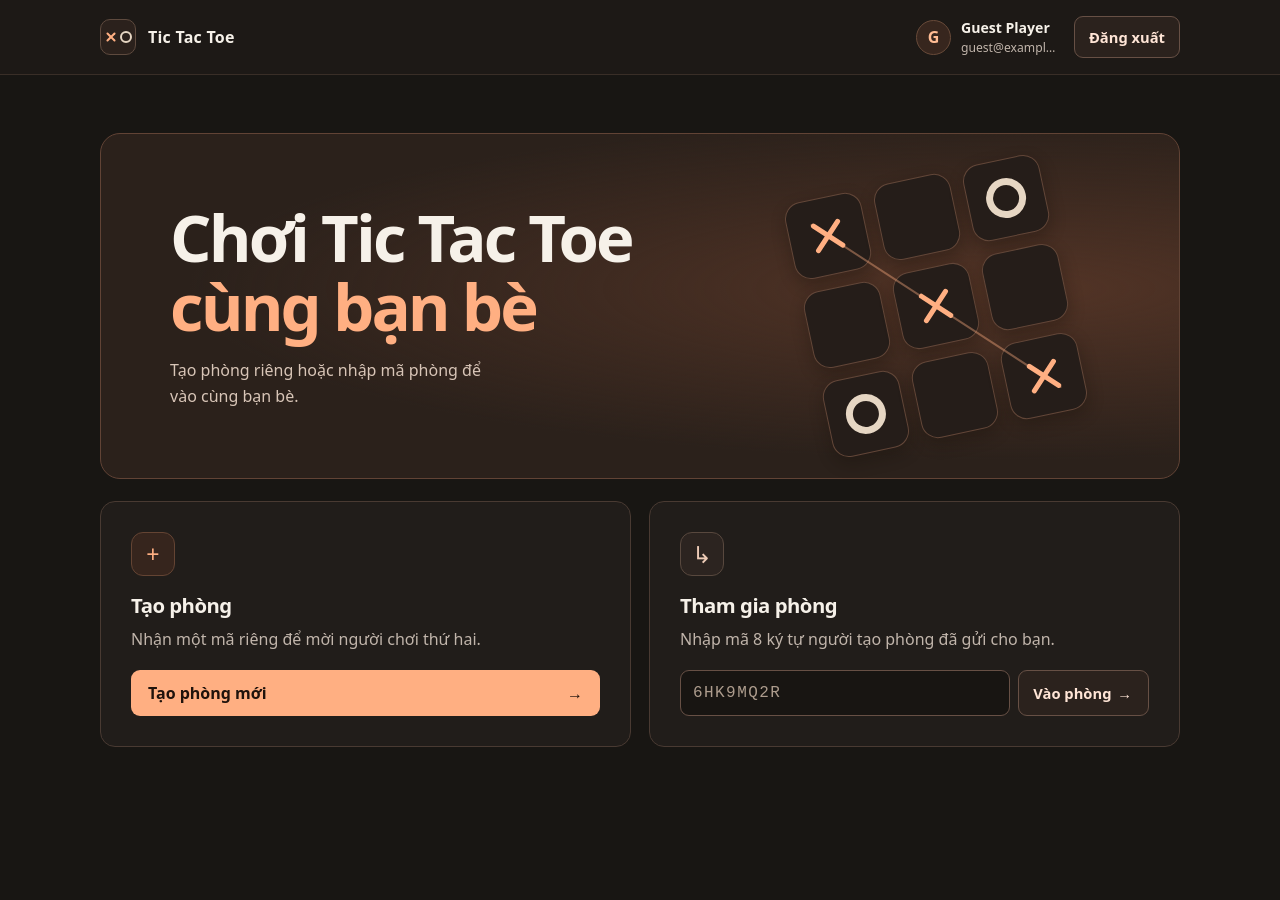
Tạo phòng chơi › giữ trang chủ và báo lỗi khi không thể tạo phòng
Click the button "Tạo phòng mới →" at (207, 693), box 131,670 -> 600,716
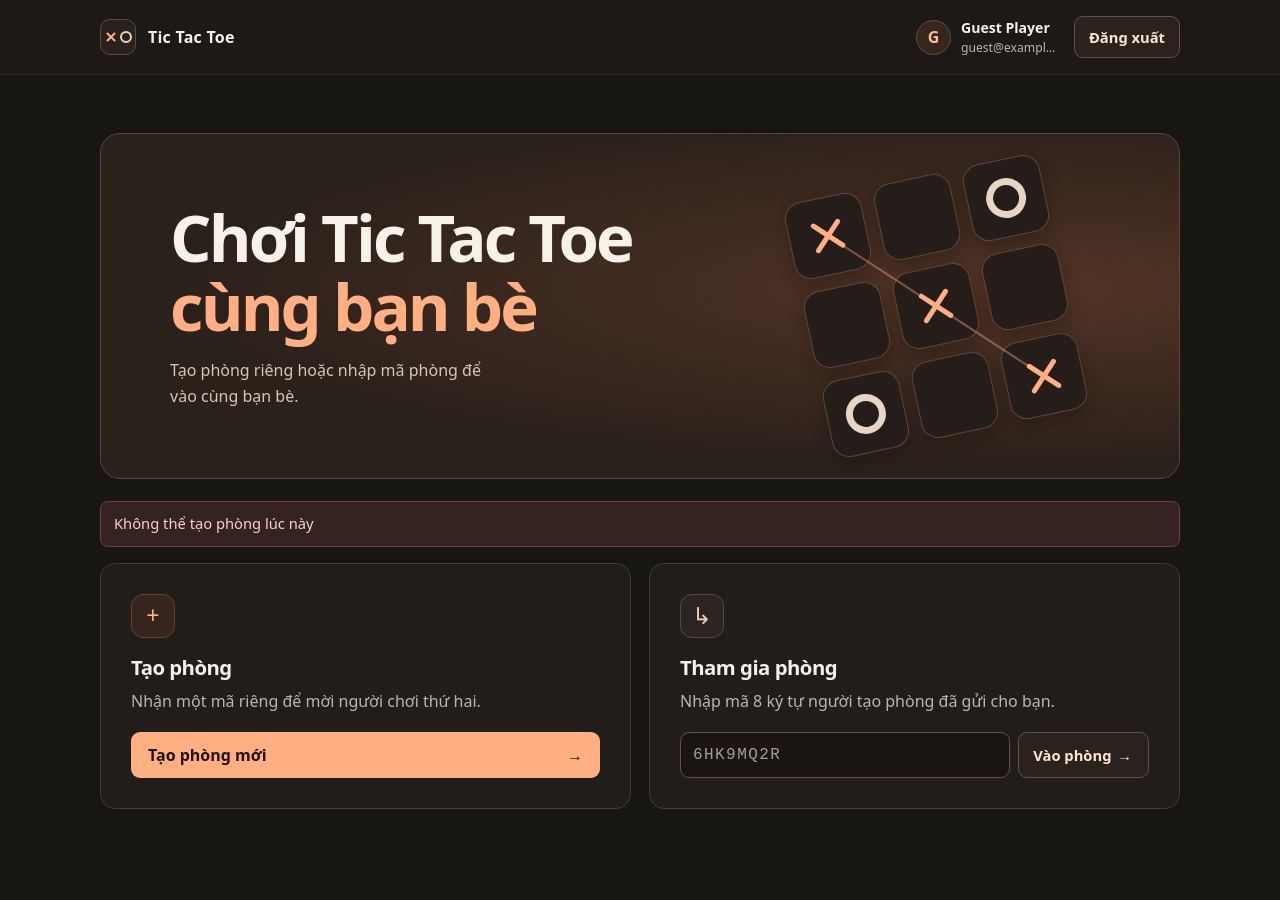
Expected: the button "Tạo phòng mới →" is enabled, 131,732 -> 600,778
Result: the message reads "Không thể tạo phòng lúc này" at 114,514 -> 314,534
